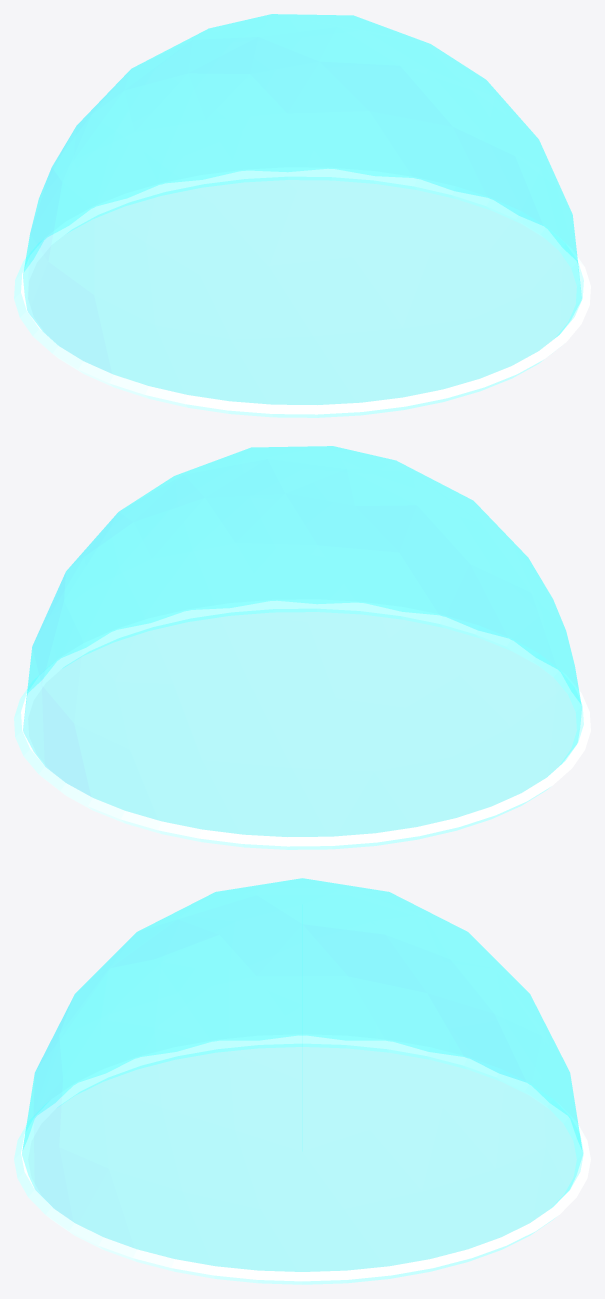
Rendered from fx_shield_f.glb.
The picture shows the model from 3 angles, top to bottom: view 1: azimuth 30°, elevation 25°; view 2: azimuth 150°, elevation 25°; view 3: azimuth 270°, elevation 25°; orthographic projection.
Parts seen in each view (by area): view 1: fx_shield_f; view 2: fx_shield_f; view 3: fx_shield_f.
Part boxes in pixels (x1,y1,x2,y2): fx_shield_f: (14, 14, 590, 417); fx_shield_f: (14, 446, 590, 849); fx_shield_f: (14, 878, 590, 1284).
Bounding box in the file's own units: 2.05 × 1.03 × 2.05.
